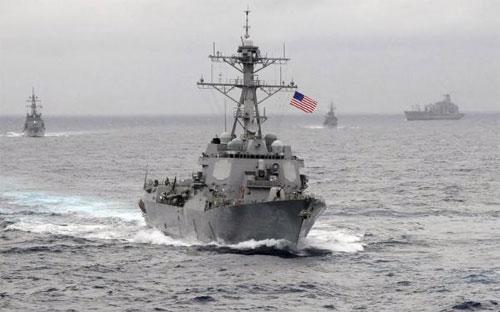MIL_Ship: (137, 15, 325, 250), (401, 92, 466, 122), (23, 86, 47, 138), (322, 100, 341, 130)
